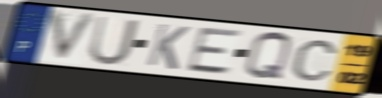C: (289, 38, 340, 83)
E: (184, 27, 245, 77)
K: (144, 22, 192, 72)
Q: (242, 30, 294, 83)
U: (86, 14, 142, 67)
V: (47, 8, 101, 65)
